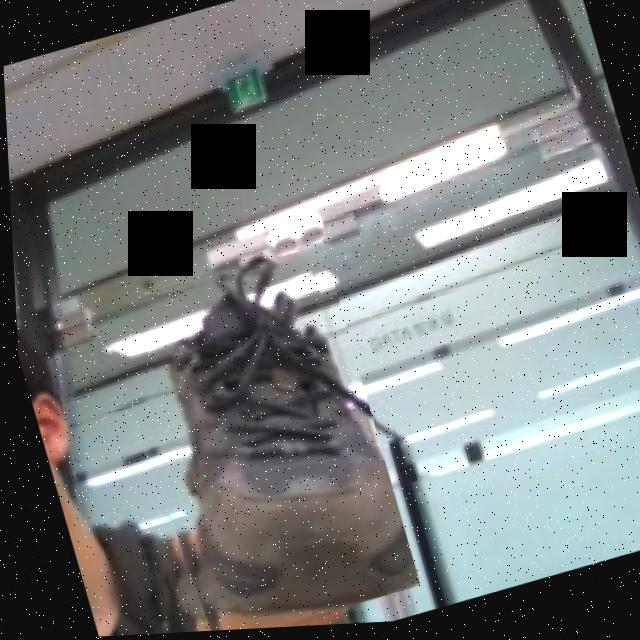shoe: (86, 232, 415, 637)
